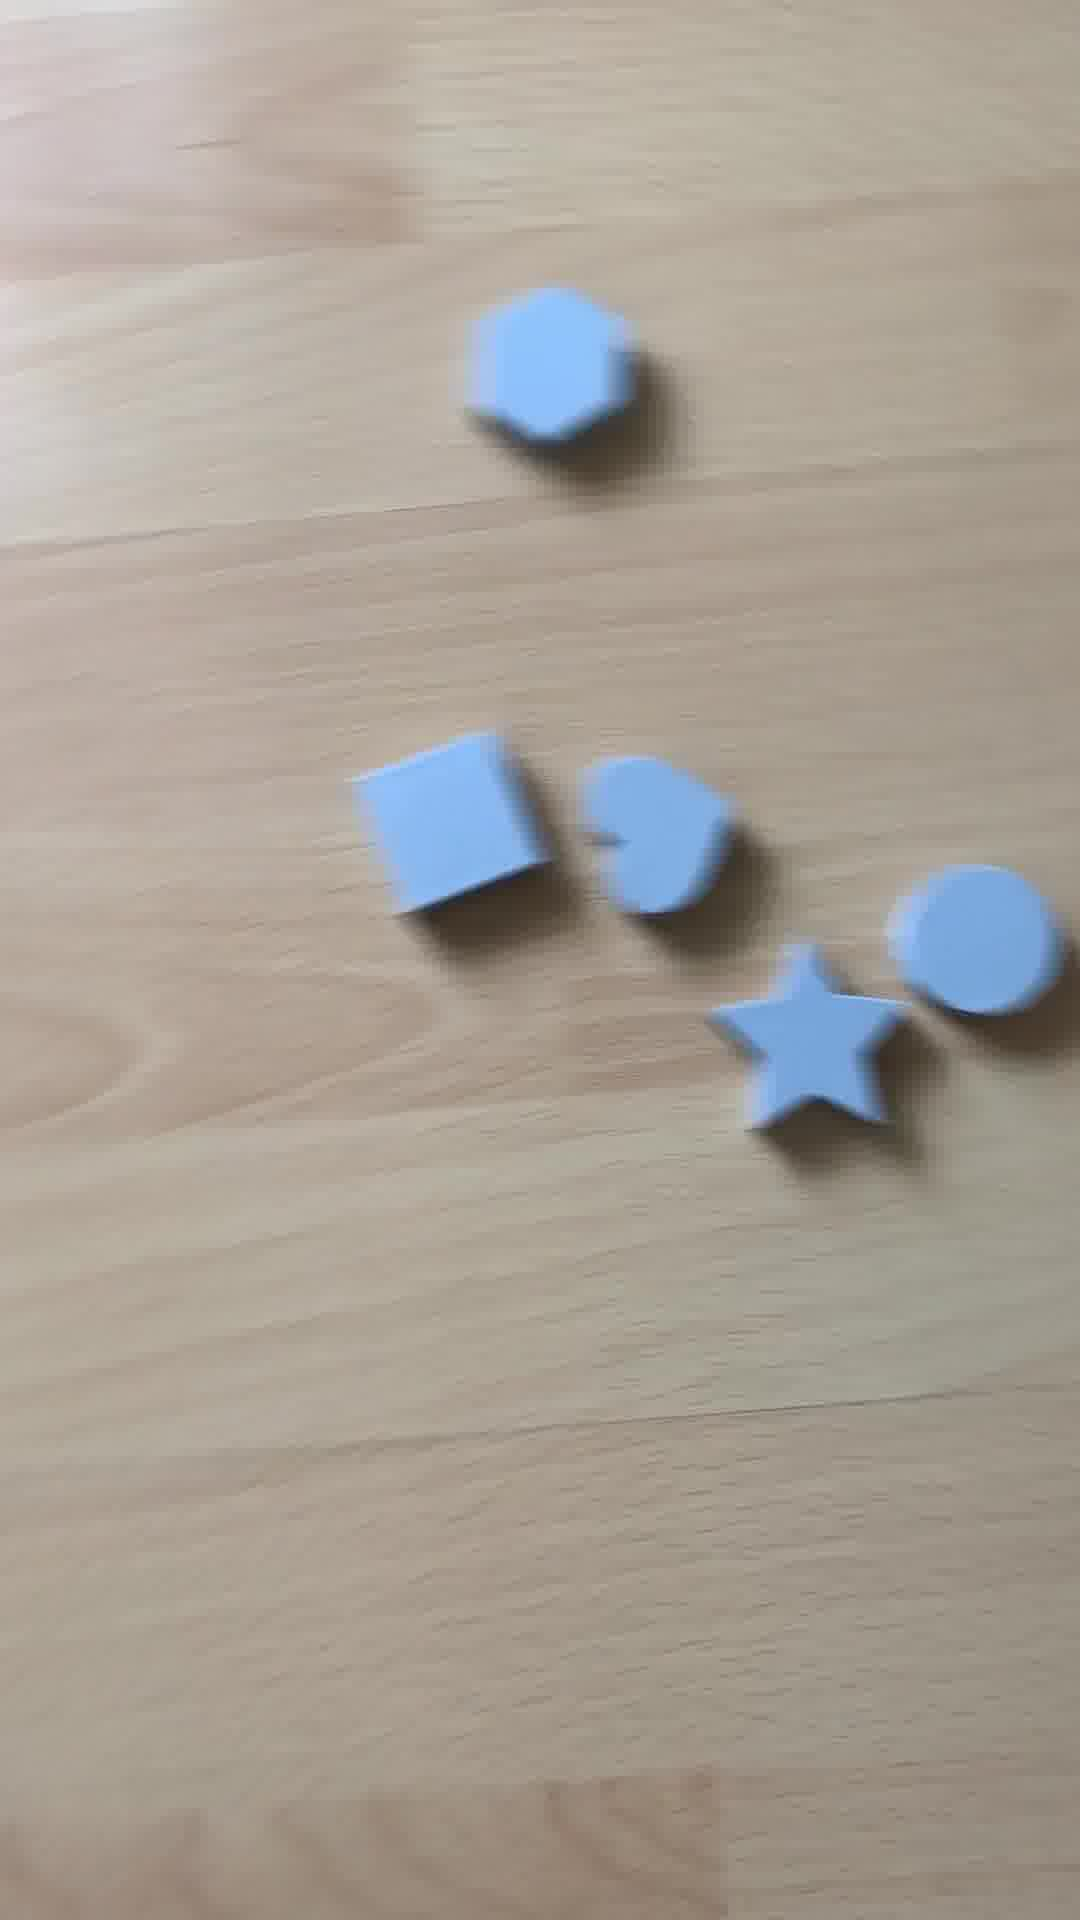Gray circle: (878, 865, 1056, 1022)
Gray heart: (580, 742, 725, 944)
Gray hexagon: (462, 285, 653, 462)
Gray square: (368, 736, 547, 934)
Gray star: (702, 948, 907, 1154)
